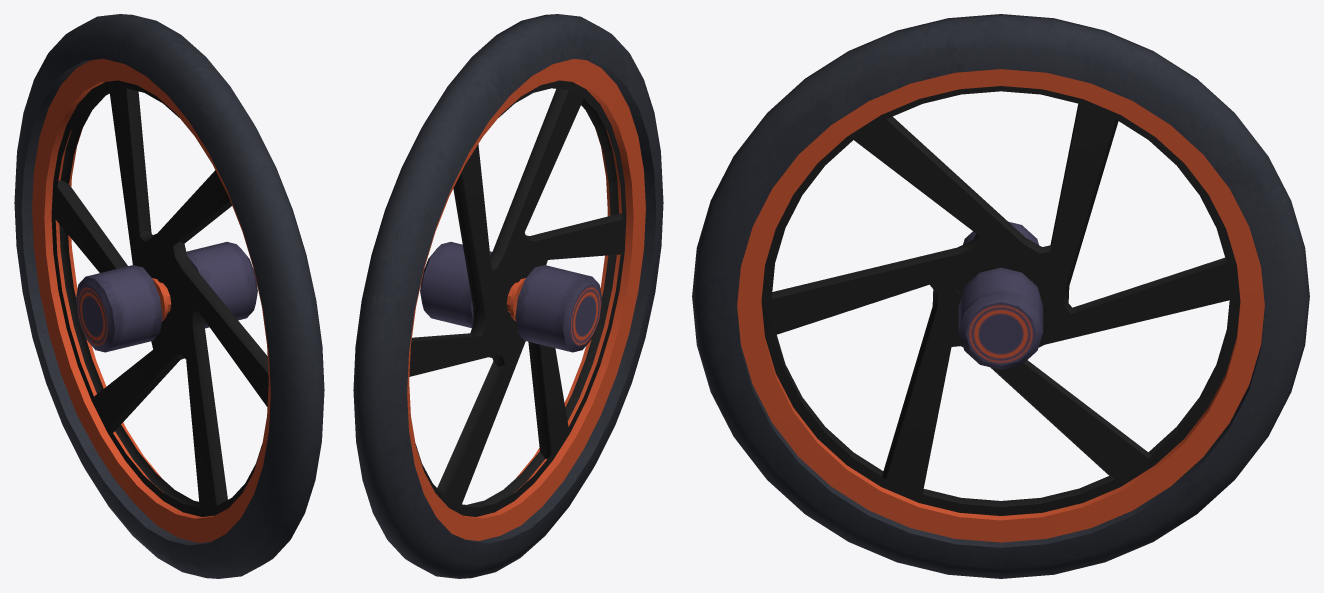
The model's file is whe_#2_trasera.fbx.
3 views of the same model, side by side, from view 1: azimuth 30°, elevation 25°; view 2: azimuth 150°, elevation 25°; view 3: azimuth 270°, elevation 25° (orthographic). The views are drawn at different scales.
Parts seen in each view (by area): view 1: whe_#2_trasera; view 2: whe_#2_trasera; view 3: whe_#2_trasera.
Part boxes in pixels (<box>): whe_#2_trasera: <box>14,14,324,578</box>; whe_#2_trasera: <box>353,14,663,578</box>; whe_#2_trasera: <box>692,14,1309,578</box>.
Size of the model in its own units: 24.19 by 81.32 by 81.32.
